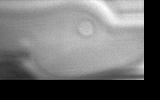cell: (75, 19, 96, 40), (17, 35, 36, 51)
